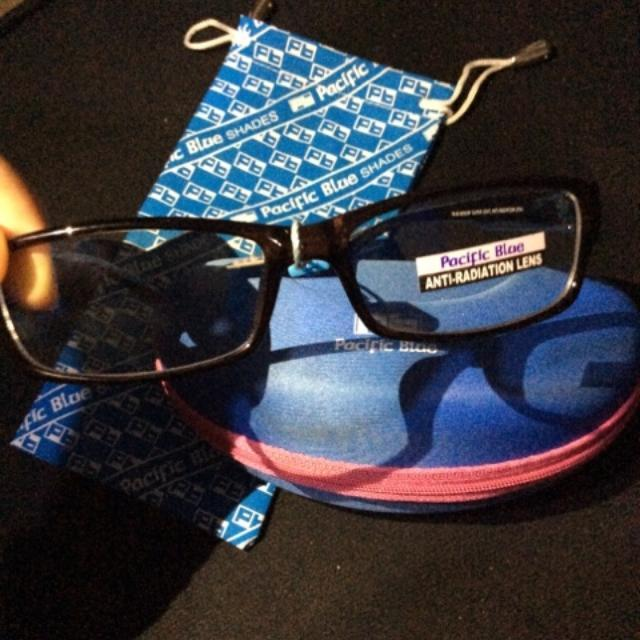mask: (0, 172, 604, 382)
